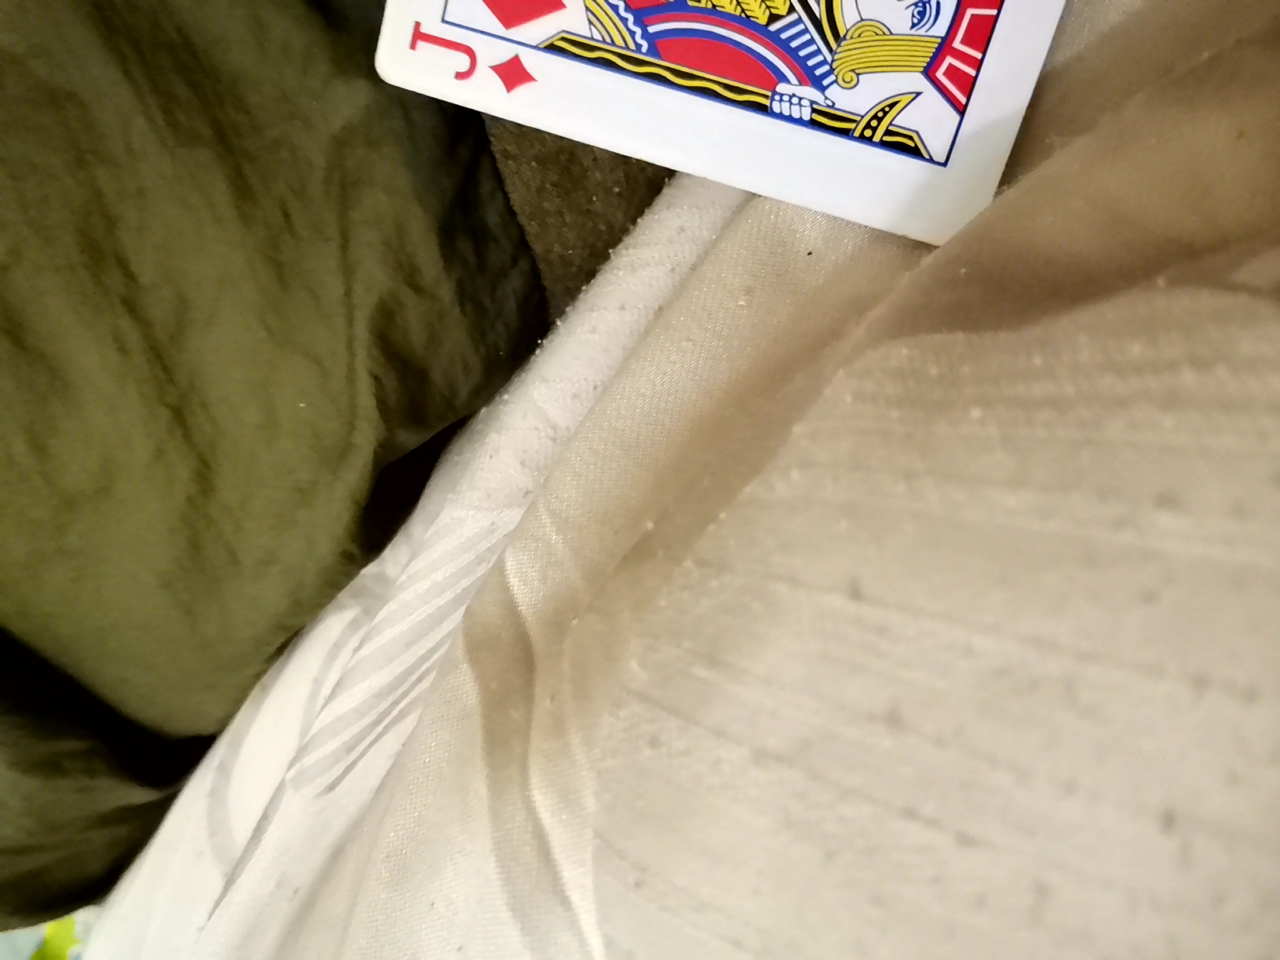fk j: (333, 0, 1150, 240)
